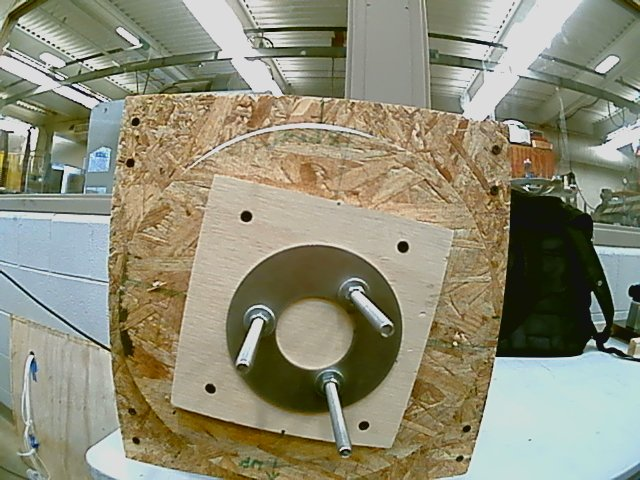bolt: (377, 322, 396, 340), (337, 445, 355, 460), (234, 363, 250, 378)
